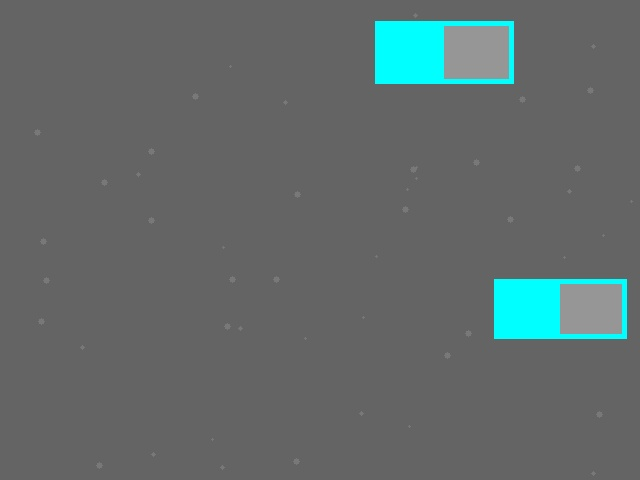truck: (375, 21, 513, 83), (494, 279, 626, 338)
